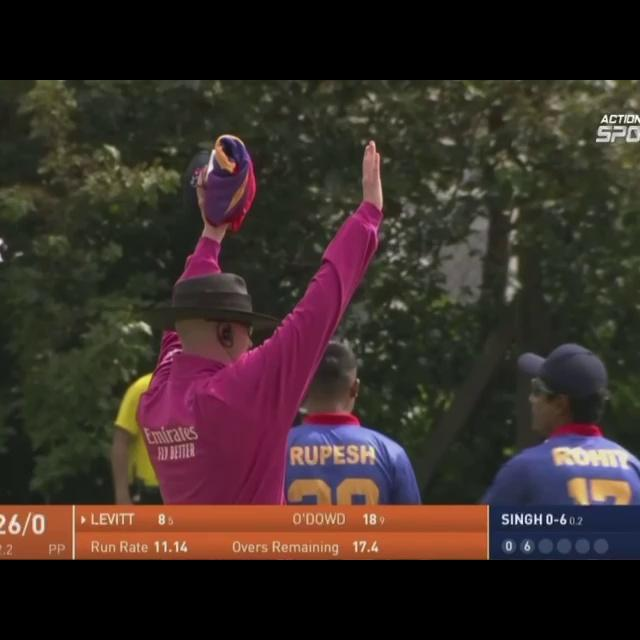umpire: (95, 100, 403, 500)
